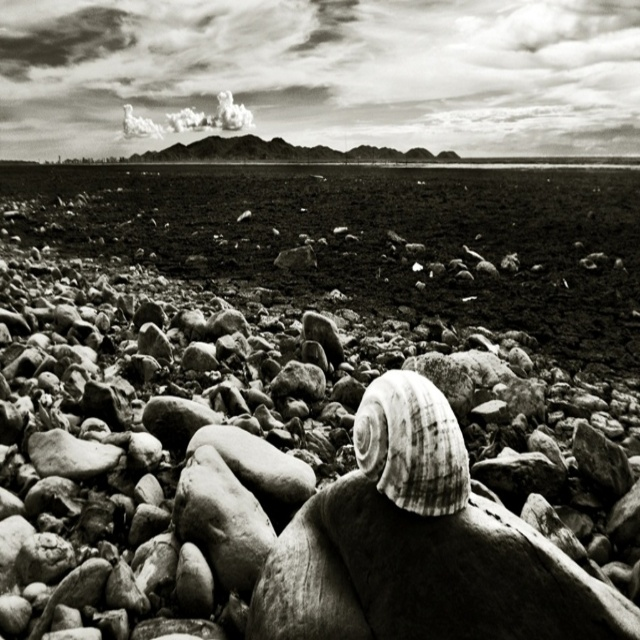Snail: (353, 368, 469, 516)
